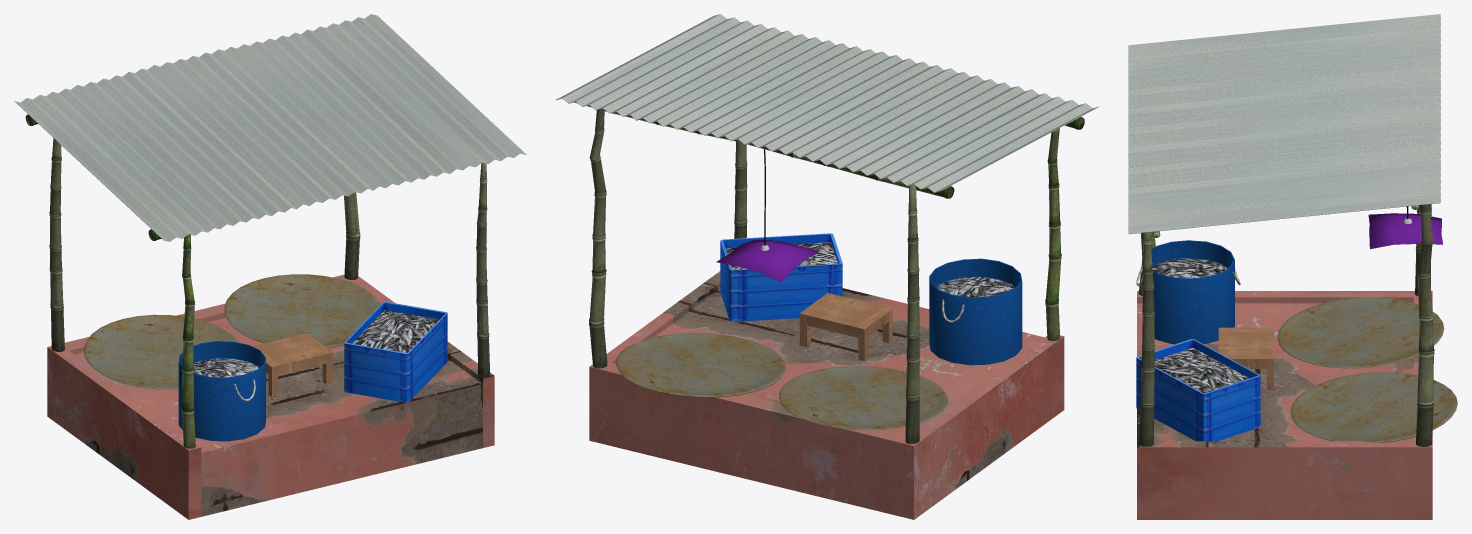
File: ficemikete.glb
3 renders of one model, left to right at view 1: azimuth 30°, elevation 25°; view 2: azimuth 150°, elevation 25°; view 3: azimuth 270°, elevation 25°, orthographic. The views are drawn at different scales.
Parts seen in each view (by area): view 1: Cube, Plane.003, Plane.002, Plane, Plane.001, Plane.004, Circle, Cylinder, Circle.001, M_FishCrate_Mat_FishCrate_0, Cube.001, Object_56 (+4 smaller); view 2: Cube, Plane.003, Plane.002, Plane, Plane.001, Cylinder, Circle, Circle.001, Plane.004, M_FishCrate_Mat_FishCrate_0, Cube.001, Object_60 (+6 smaller); view 3: Cube, Plane.001, Plane, Plane.002, Plane.003, Plane.004, Circle.001, Circle, Cylinder, M_FishCrate_Mat_FishCrate_0, Object_60, Object_64 (+3 smaller).
Boxes of the visible parts, x1,y1,x2,y2 form: Cube: (47,274,494,519); Plane.003: (71,68,297,228); Plane.002: (147,49,373,208); Plane: (301,14,526,173); Plane.001: (225,32,449,190); Plane.004: (14,88,220,241); Circle: (224,274,380,348); Cylinder: (178,341,265,441); Circle.001: (84,314,239,389); M_FishCrate_Mat_FishCrate_0: (344,301,447,402); Cube.001: (252,333,333,397); Object_56: (49,138,64,351); Cube: (589,271,1064,519); Plane.003: (799,72,1038,178); Plane.002: (717,51,957,157); Plane: (555,14,794,120); Plane.001: (636,34,875,138); Cylinder: (929,258,1022,365); Circle: (616,333,785,397); Circle.001: (779,366,947,430); Plane.004: (880,93,1099,192); M_FishCrate_Mat_FishCrate_0: (720,233,842,322); Cube.001: (799,293,892,361); Object_60: (589,108,607,368); Cube: (1137,291,1432,519); Plane.001: (1128,123,1440,194); Plane: (1128,163,1440,234); Plane.002: (1128,83,1440,153); Plane.003: (1128,45,1440,114); Plane.004: (1128,14,1440,76); Circle.001: (1277,297,1444,368); Circle: (1290,372,1457,443); Cylinder: (1142,240,1234,344); M_FishCrate_Mat_FishCrate_0: (1136,339,1260,441); Object_60: (1416,204,1434,446); Object_64: (1139,232,1155,446).
Bounding box in the file's own units: 11.87 × 10.05 × 8.92.
12 materials, 12 textured.
